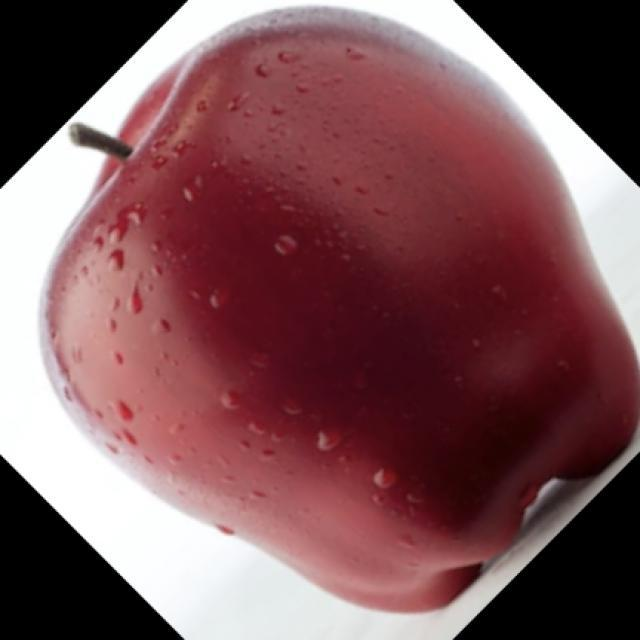Fresh Apple: (40, 7, 640, 618)
